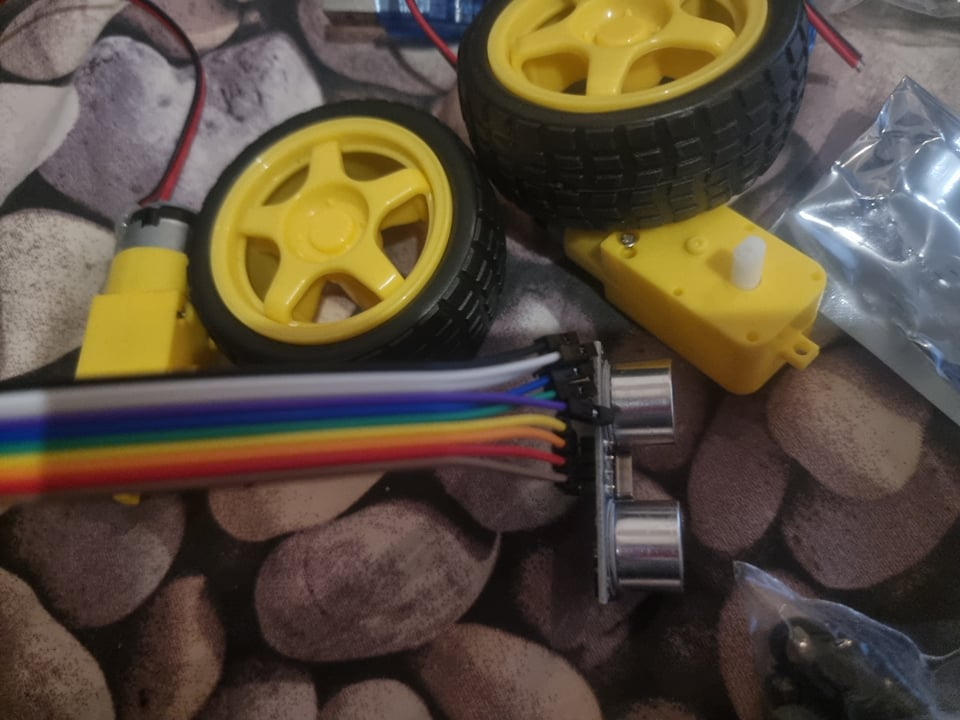SENSOR: (593, 336, 692, 613)
